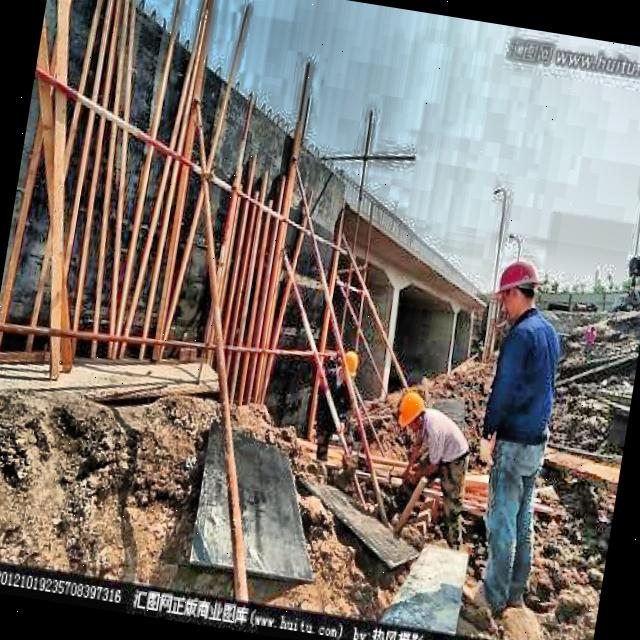helmet: (490, 257, 544, 327), (394, 388, 430, 436), (336, 346, 362, 384)
